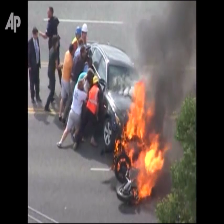fire_h: (121, 76, 169, 200)
fire_l: (116, 158, 129, 172), (114, 139, 120, 158)
